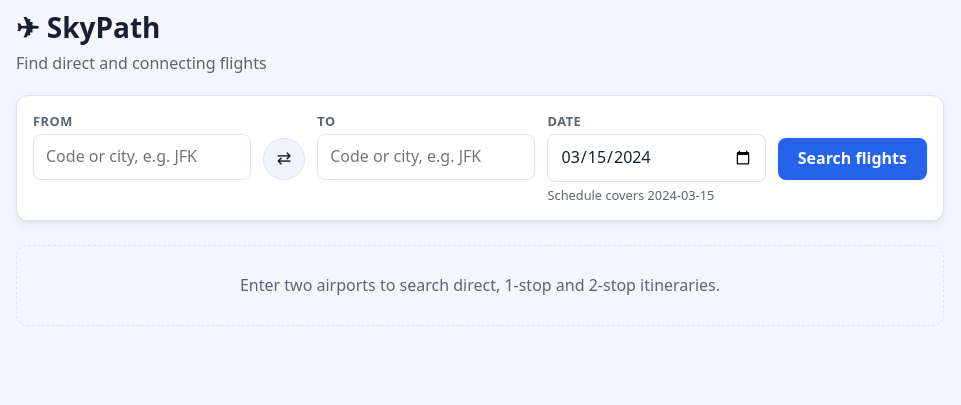
Test: App › explains a 404 from the wrong server instead of echoing "Not Found"
This screenshot has width=961, height=405.
Type "JFK" into the dropdown labelled "From" at (142, 157), box [33,134,251,180]
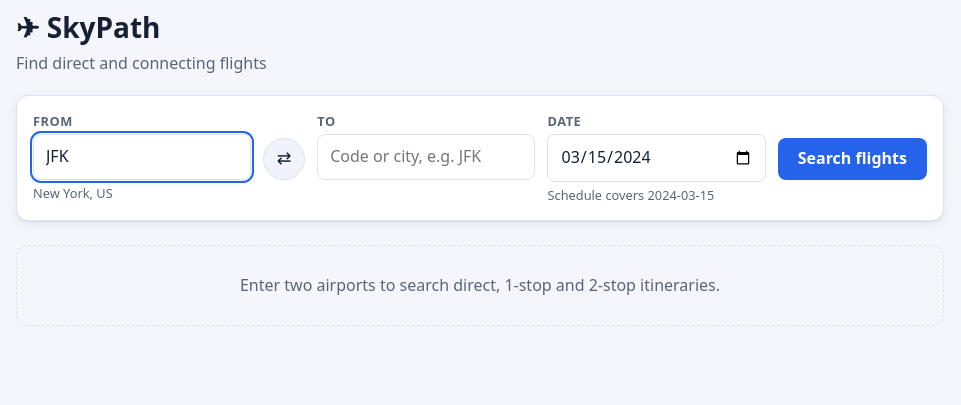
Type "LAX" into the dropdown labelled "To" at (426, 157), box [317,134,536,180]
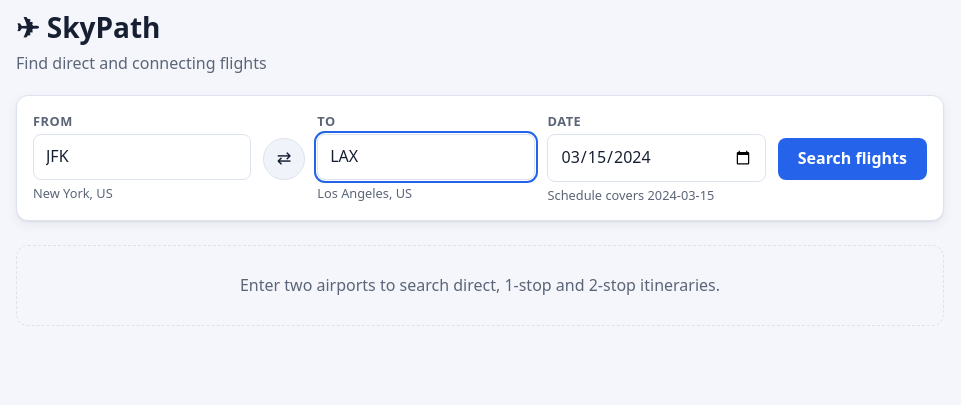
Click the button "Search flights" at (852, 159), box [778,138,927,180]
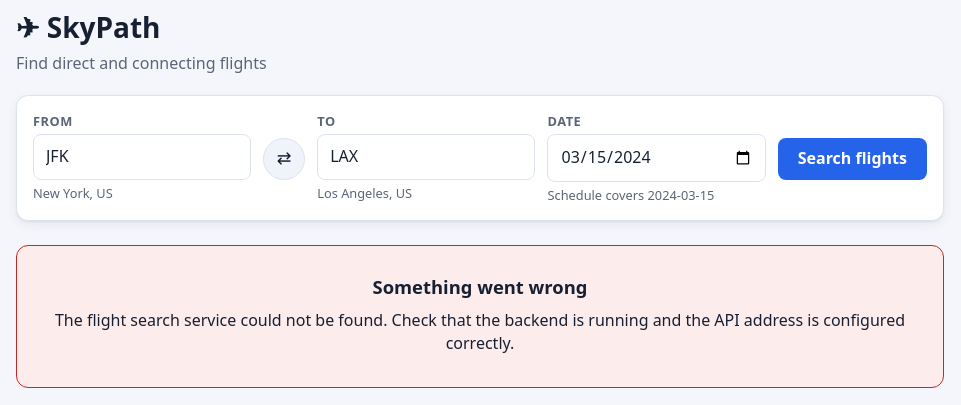
Now the text "service could not be found" is shown, box [55,309,905,354]
